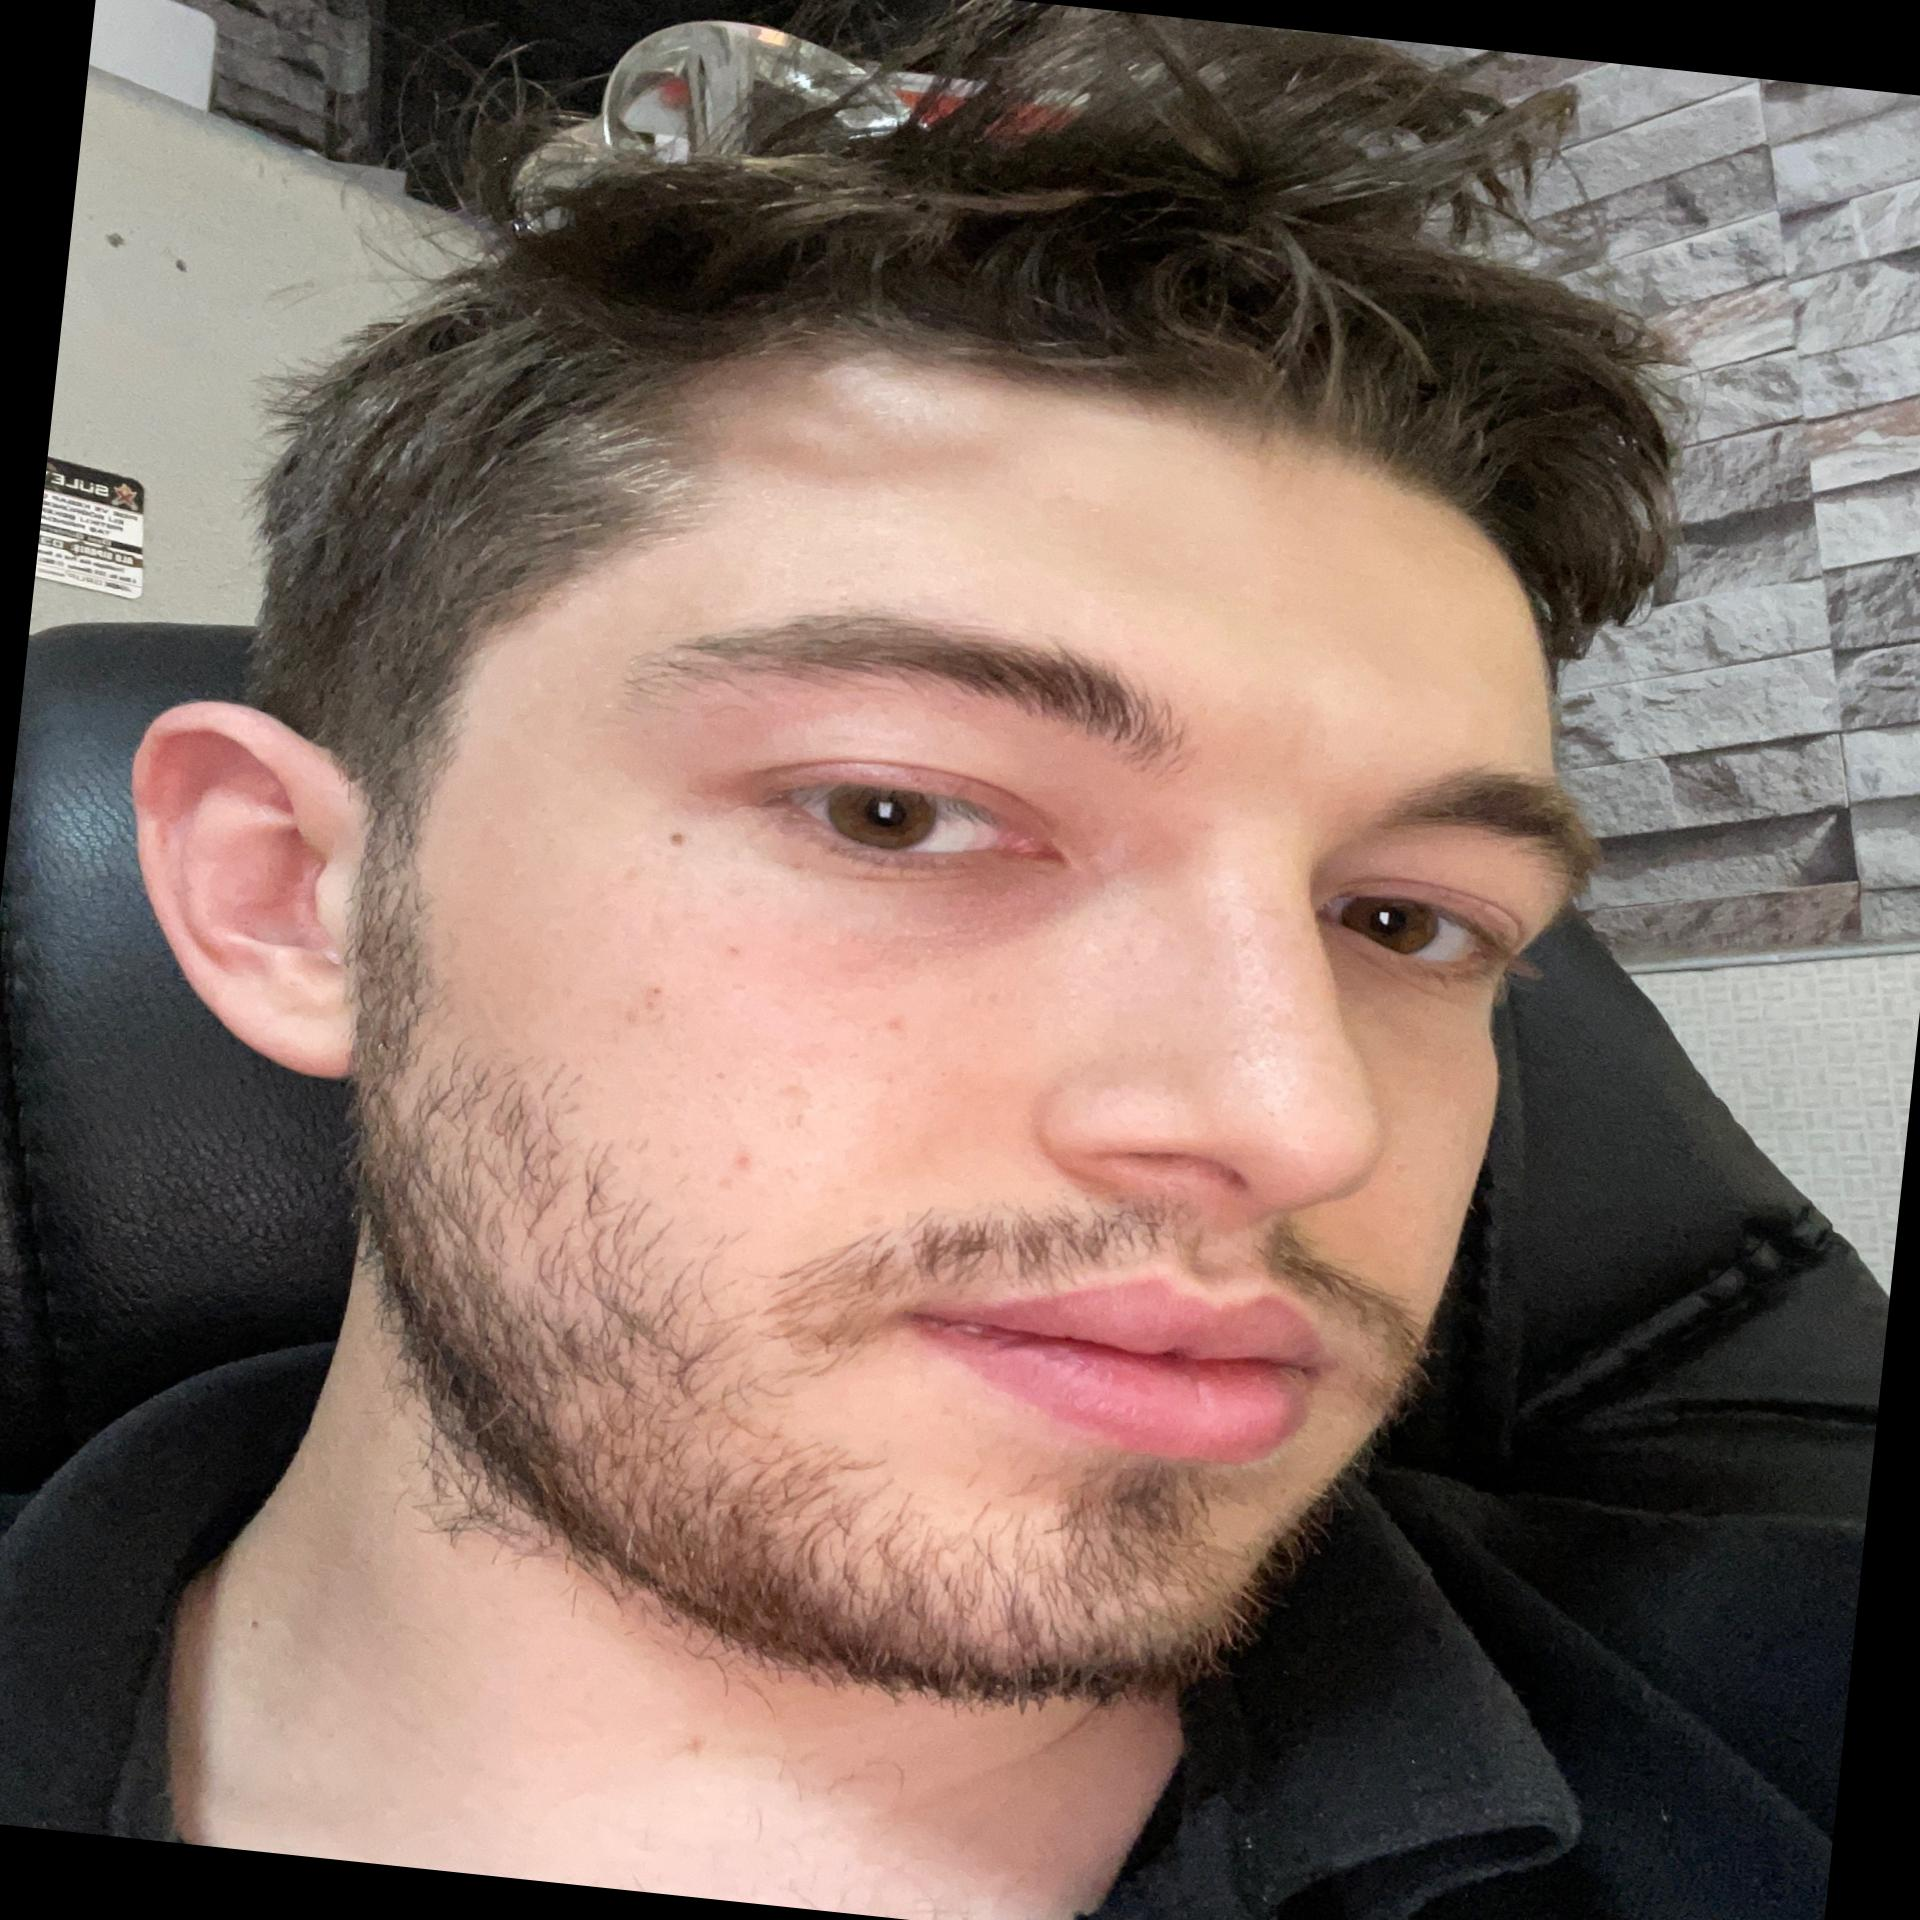Acne: (712, 1146, 761, 1199), (631, 978, 670, 1041), (877, 1013, 914, 1036)
Dark Circles: (684, 804, 1111, 1000)
